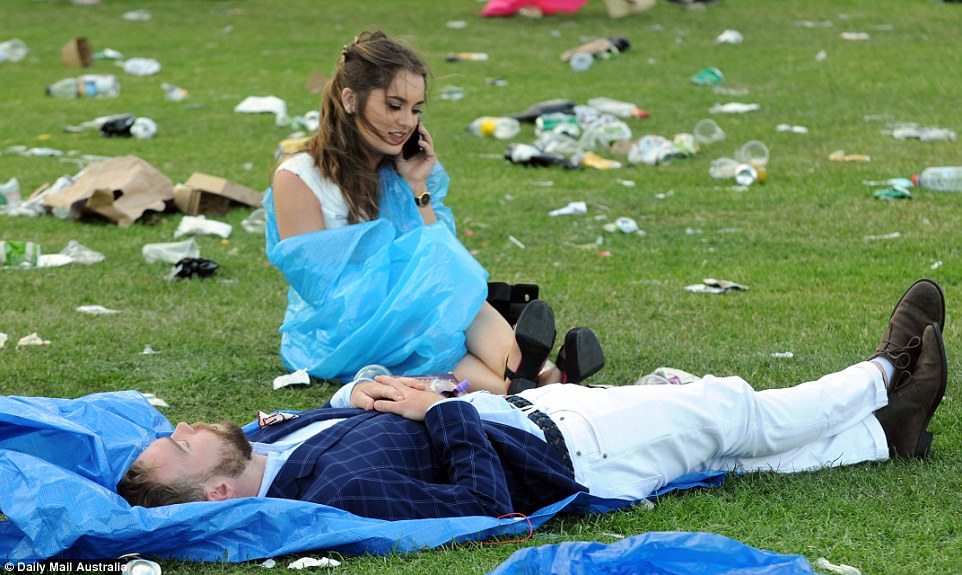Person: (117, 281, 962, 517), (263, 26, 606, 386)
